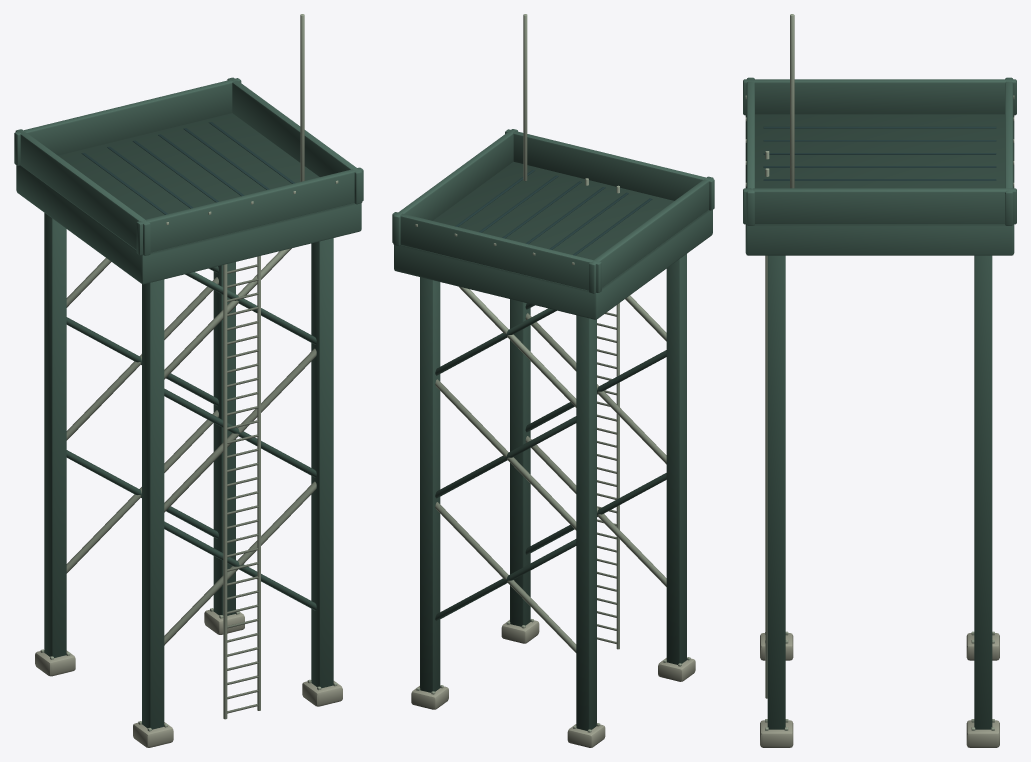
File: kf-tower-11.glb
The picture shows the model from 3 angles, left to right: view 1: azimuth 30°, elevation 25°; view 2: azimuth 150°, elevation 25°; view 3: azimuth 270°, elevation 25°; orthographic projection. The views are drawn at different scales.
Parts seen in each view (by area): view 1: Watchtower Tower paint, Watchtower Tower fittings, Watchtower Concrete feet, Watchtower Tread panels; view 2: Watchtower Tower paint, Watchtower Tower fittings, Watchtower Concrete feet, Watchtower Tread panels; view 3: Watchtower Tower paint, Watchtower Tower fittings, Watchtower Tread panels, Watchtower Concrete feet.
Part boxes in pixels (x1,y1,x2,y2): Watchtower Tower paint: (14, 77, 363, 729); Watchtower Tower fittings: (40, 14, 338, 731); Watchtower Concrete feet: (35, 609, 342, 747); Watchtower Tread panels: (81, 122, 295, 214); Watchtower Tower paint: (392, 129, 714, 730); Watchtower Tower fittings: (415, 14, 690, 732); Watchtower Concrete feet: (411, 620, 695, 747); Watchtower Tread panels: (455, 169, 652, 255); Watchtower Tower paint: (743, 77, 1016, 729); Watchtower Tower fittings: (745, 14, 1014, 730); Watchtower Tread panels: (763, 126, 996, 180); Watchtower Concrete feet: (760, 633, 999, 747).
Bounding box in the file's own units: 5.3 × 15.4 × 5.3.
